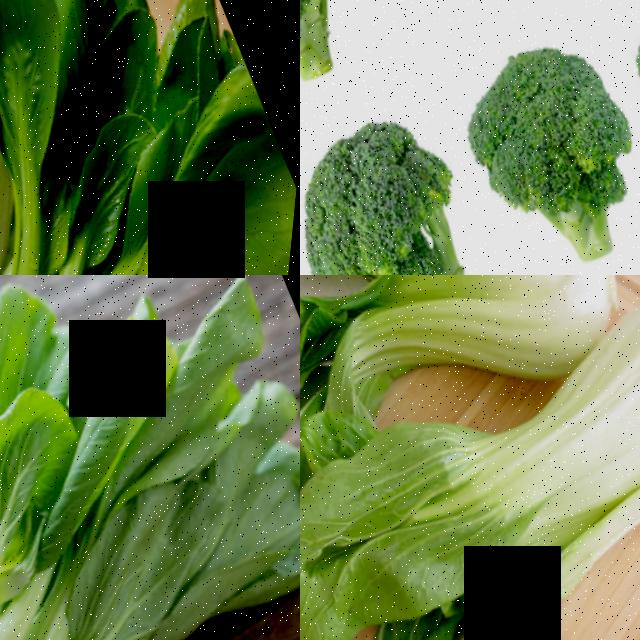bok choy: (300, 303, 640, 640), (300, 275, 640, 521), (0, 305, 184, 640), (79, 24, 300, 275), (0, 0, 187, 275), (0, 500, 300, 640)
broccoli: (418, 0, 640, 275), (300, 86, 552, 275), (300, 0, 426, 148)
